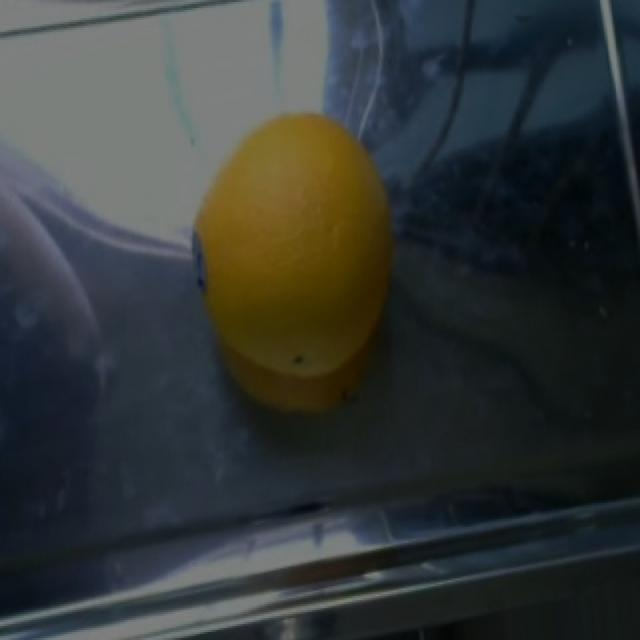Fruit: (180, 93, 401, 436)
